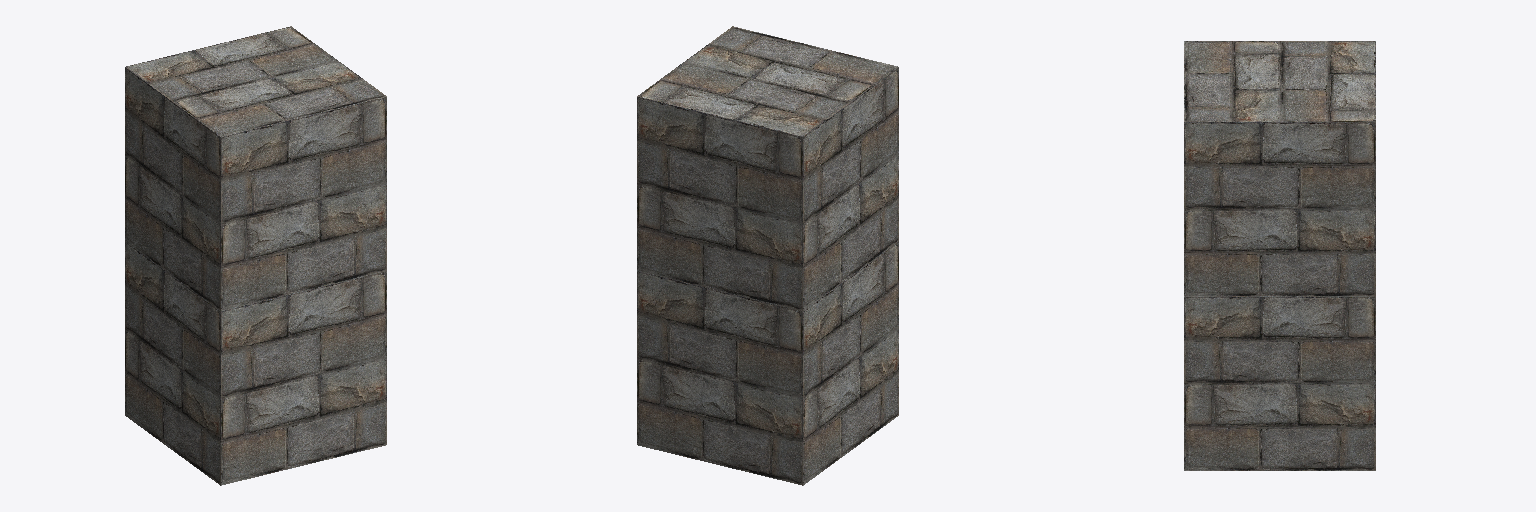
3 views of the same model, side by side, from view 1: azimuth 30°, elevation 25°; view 2: azimuth 150°, elevation 25°; view 3: azimuth 270°, elevation 25° (orthographic).
Size of the model in its own units: 100 by 200 by 100.
1 materials, 1 textured.